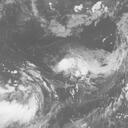cyclone: (52, 50, 112, 90), (0, 86, 42, 125)
